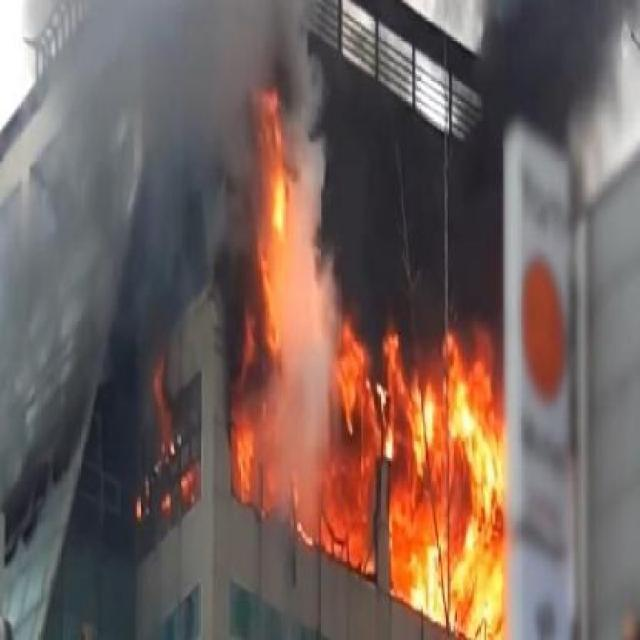Fire: (241, 93, 505, 626), (132, 363, 197, 539)
Smoke: (31, 0, 234, 341), (478, 8, 618, 124)
